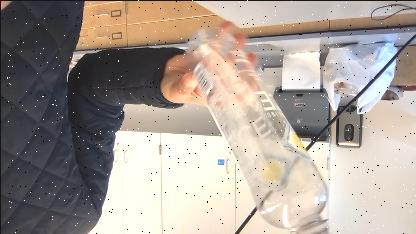Plastic Bottle: (179, 25, 329, 234)
